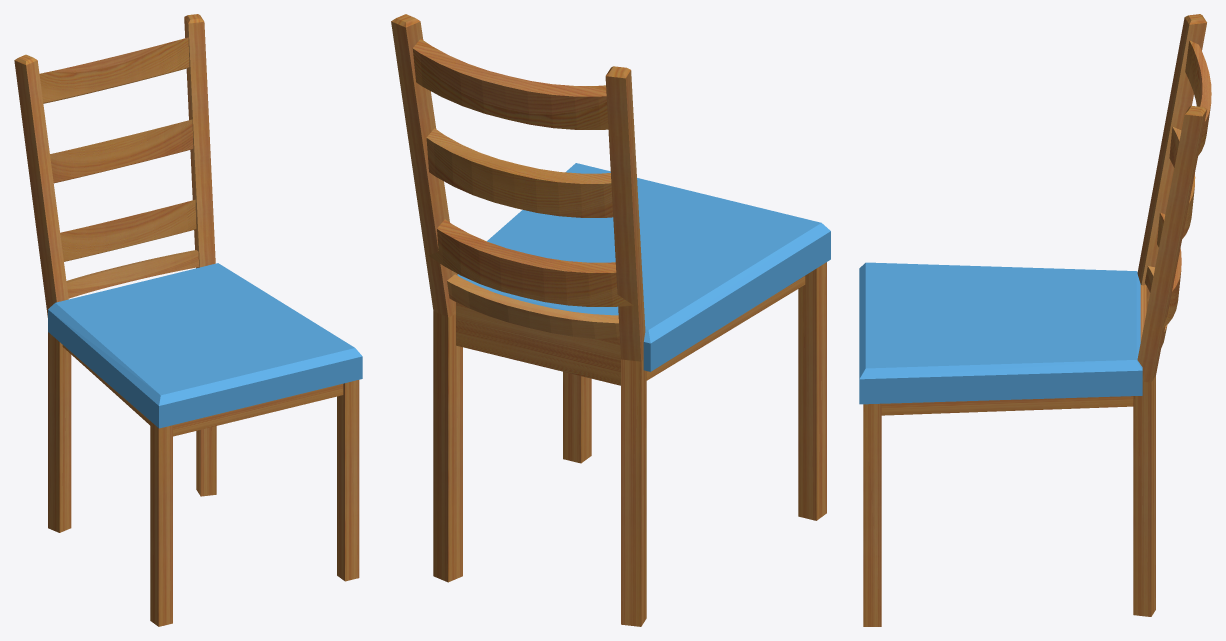
The model's file is chair-dining-2.glb.
The picture shows the model from 3 angles, left to right: view 1: azimuth 30°, elevation 25°; view 2: azimuth 150°, elevation 25°; view 3: azimuth 270°, elevation 25°; orthographic projection. The views are drawn at different scales.
Visible parts, largest first — view 1: symbol; view 2: symbol; view 3: symbol.
Boxes of the visible parts, left/top/right/bottom form: symbol: left=14, top=14, right=362, bottom=626; symbol: left=391, top=14, right=830, bottom=626; symbol: left=859, top=14, right=1211, bottom=626.
Size of the model in its own units: 0.426 by 0.9122 by 0.5716.
2 materials, 1 textured.
